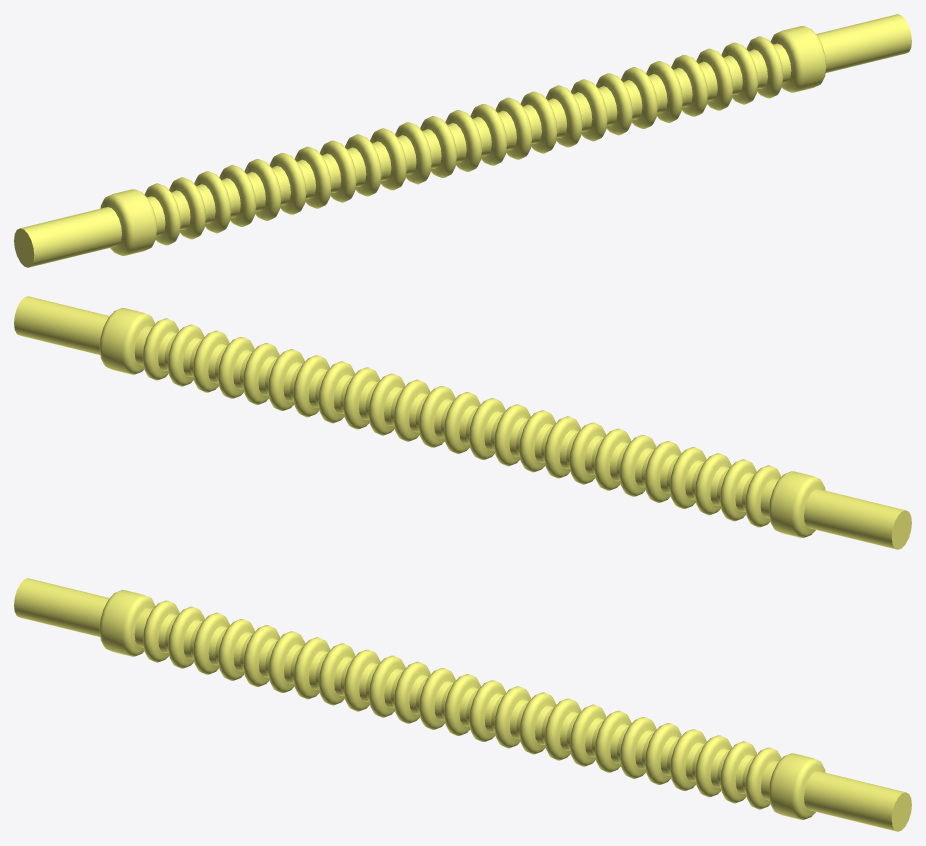
The picture shows the model from 3 angles, top to bottom: view 1: azimuth 30°, elevation 25°; view 2: azimuth 150°, elevation 25°; view 3: azimuth 330°, elevation 25°; orthographic projection.
Parts seen in each view (by area): view 1: 57539k02.dat (×25), 27328k01.dat (×2); view 2: 57539k02.dat (×25), 27328k01.dat (×2); view 3: 57539k02.dat (×25), 27328k01.dat (×2).
Part boxes in pixels (x1,y1,x2,y2): 57539k02.dat (×25): (144, 36, 783, 245); 27328k01.dat (×2): (14, 14, 911, 267); 57539k02.dat (×25): (142, 318, 781, 527); 27328k01.dat (×2): (14, 296, 911, 549); 57539k02.dat (×25): (143, 600, 781, 809); 27328k01.dat (×2): (14, 578, 911, 831).
Bounding box in the file's own units: 0.08 × 0.005 × 0.005.
